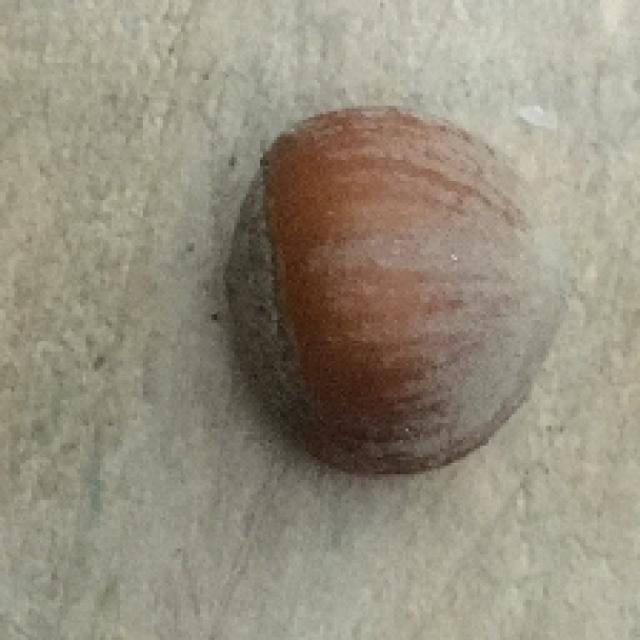QualityHazelnut: (224, 105, 581, 478)
